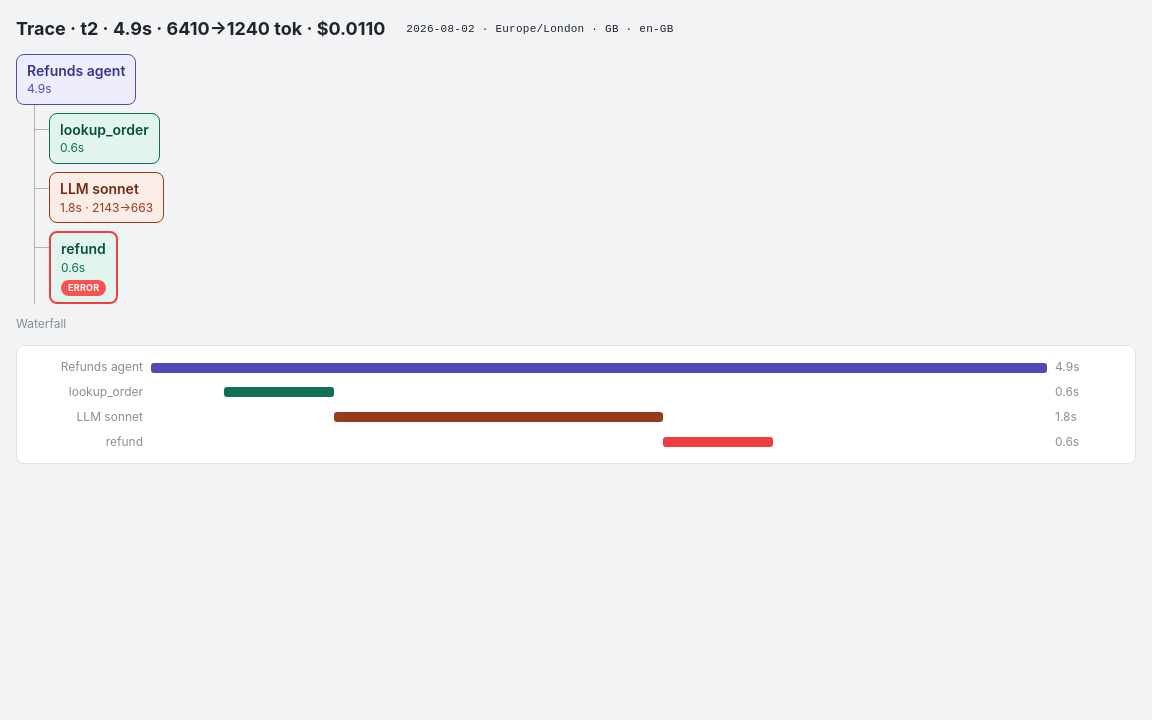
Test case: TracePage › clicking a tree node selects the span in both layers and opens the drawer (lazy payload fetch)
Click the button with aria-label "Open LLM sonnet": (107, 198) [49,172,164,223]
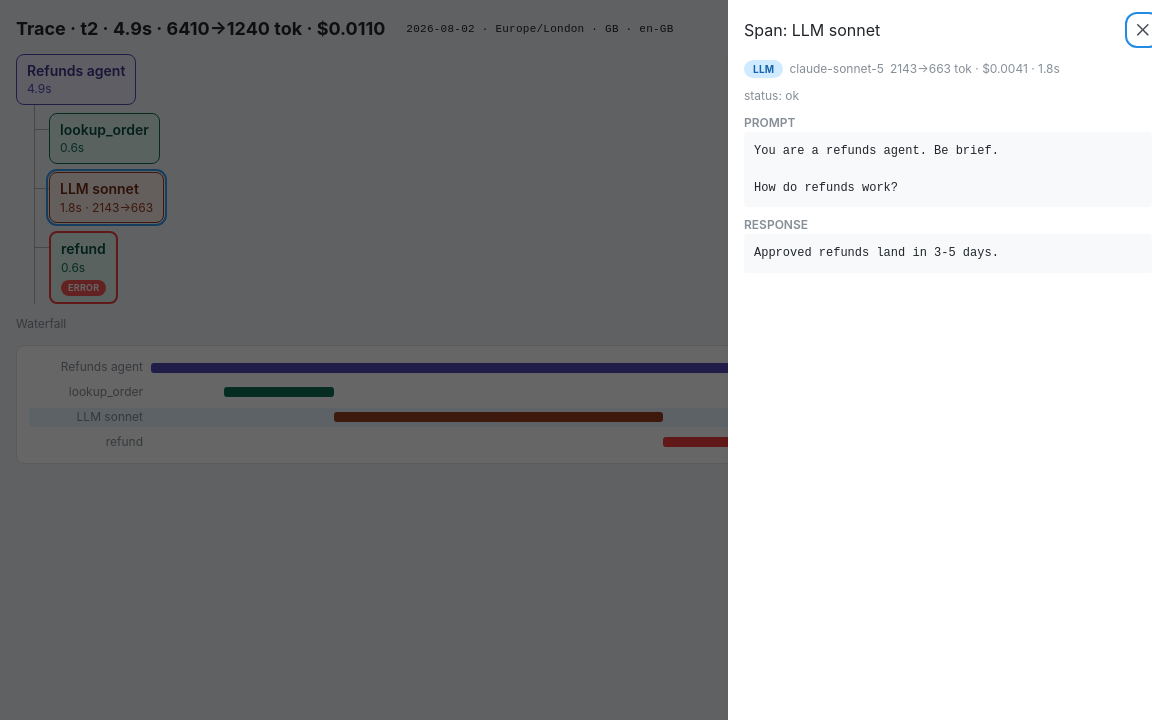
Expected: the heading "Span: LLM sonnet" is shown, [744,22,880,38]
Expected: the text with test id "span-model" reads "claude-sonnet-5", [789,61,884,76]
Expected: the text with test id "span-stats" reads "2143→663 tok · $0.0041 · 1.8s", [890,61,1060,77]
